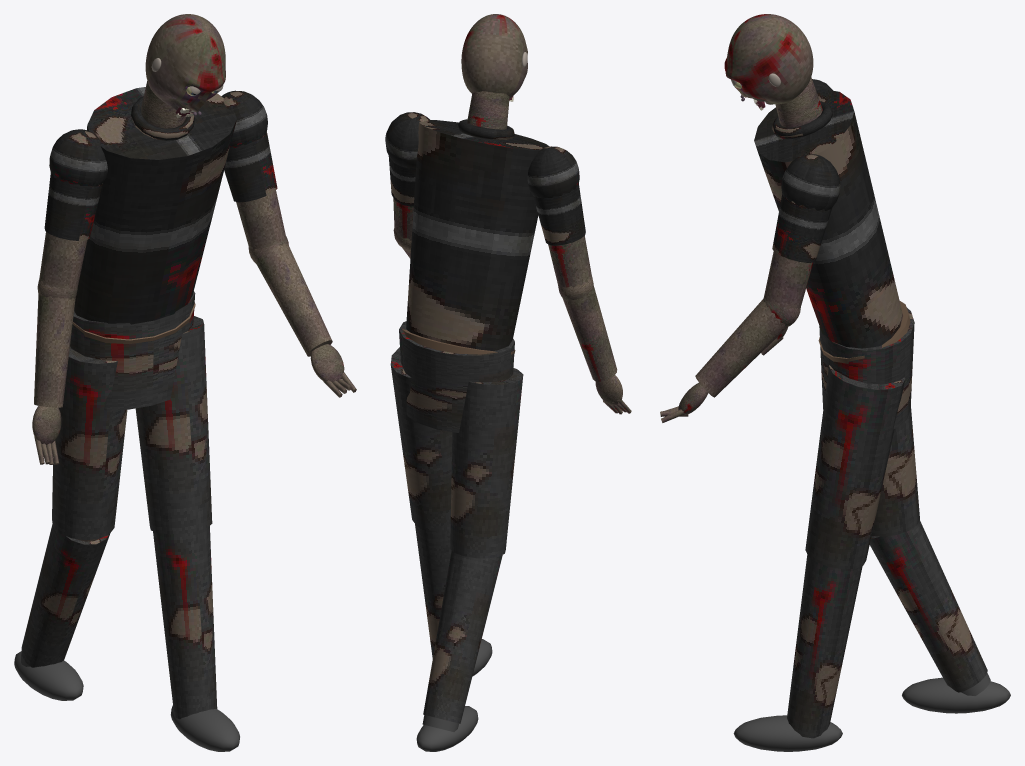
File: Zombie_039.glb
The picture shows the model from 3 angles, left to right: view 1: azimuth 30°, elevation 25°; view 2: azimuth 150°, elevation 25°; view 3: azimuth 270°, elevation 25°; orthographic projection. The views are drawn at different scales.
Parts seen in each view (by area): view 1: Zombie_039, object 16, object 3, object 10, object 11, object 4; view 2: Zombie_039, object 16, object 3, object 4, object 2; view 3: Zombie_039, object 16, object 10.
Part boxes in pixels (x1=…): Zombie_039: x1=14, y1=81, x2=286, y2=751; object 16: x1=145, y1=14, x2=225, y2=112; object 3: x1=34, y1=294, x2=75, y2=407; object 10: x1=255, y1=243, x2=332, y2=356; object 11: x1=310, y1=344, x2=344, y2=382; object 4: x1=32, y1=406, x2=61, y2=444; Zombie_039: x1=385, y1=91, x2=591, y2=751; object 16: x1=461, y1=14, x2=527, y2=98; object 3: x1=562, y1=286, x2=617, y2=381; object 4: x1=595, y1=375, x2=622, y2=405; object 2: x1=558, y1=277, x2=593, y2=300; Zombie_039: x1=733, y1=77, x2=1010, y2=751; object 16: x1=724, y1=14, x2=813, y2=104; object 10: x1=695, y1=299, x2=787, y2=397.
Bounding box in the file's own units: 0.729 × 1.94 × 0.8556.
15 materials, 5 textured.
